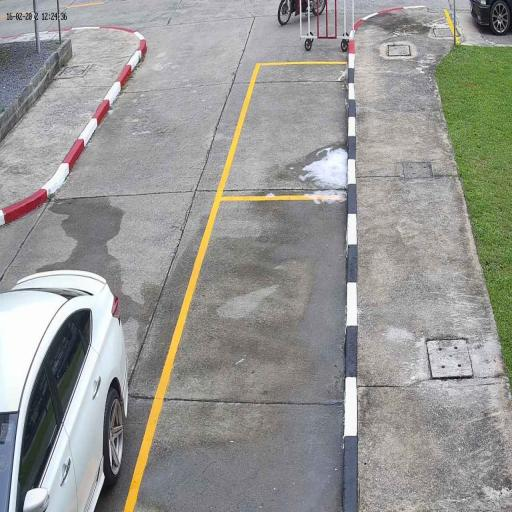car: (0, 267, 130, 511)
